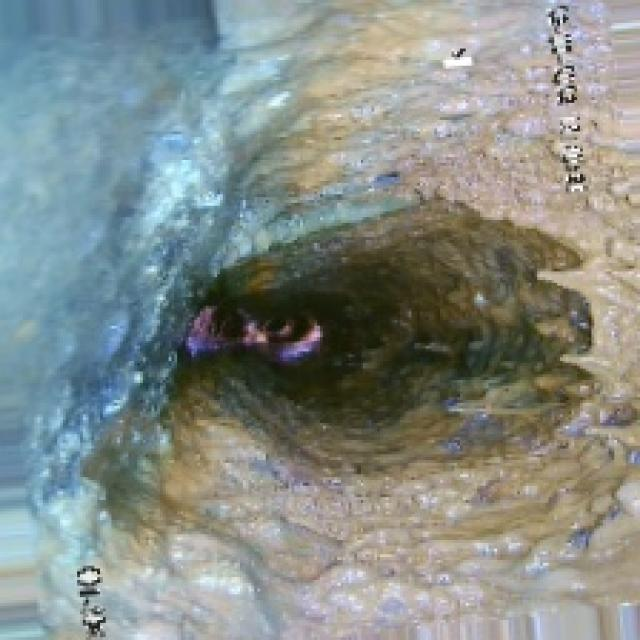encrustation: (188, 91, 626, 572)
